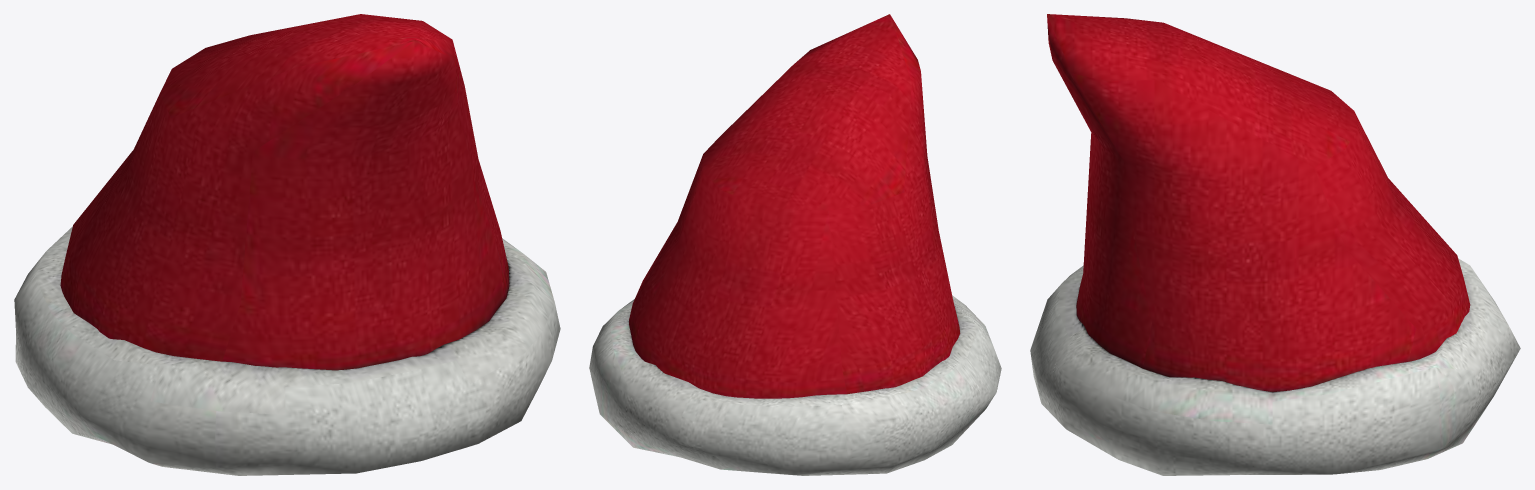
Rendered from santeeclaus.fbx.
3 renders of one model, left to right at view 1: azimuth 30°, elevation 25°; view 2: azimuth 150°, elevation 25°; view 3: azimuth 270°, elevation 25°, orthographic. The views are drawn at different scales.
Parts seen in each view (by area): view 1: Cylinder; view 2: Cylinder; view 3: Cylinder.
Boxes of the visible parts, <box> form: Cylinder: <box>14,14,560,475</box>; Cylinder: <box>589,14,1001,475</box>; Cylinder: <box>1030,14,1520,475</box>.
Size of the model in its own units: 3.7 by 3.27 by 3.8.
